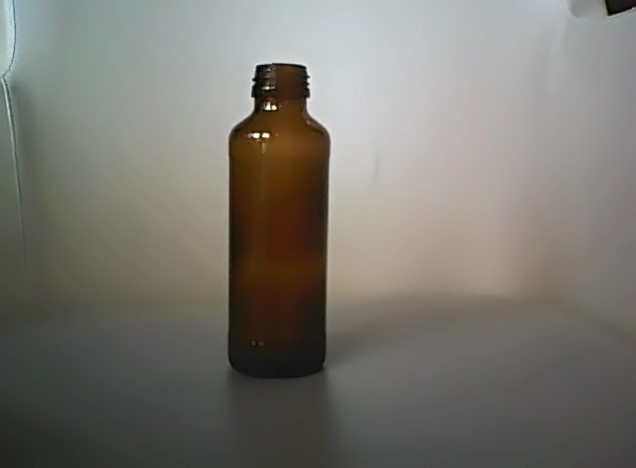Glass: (218, 53, 334, 382)
